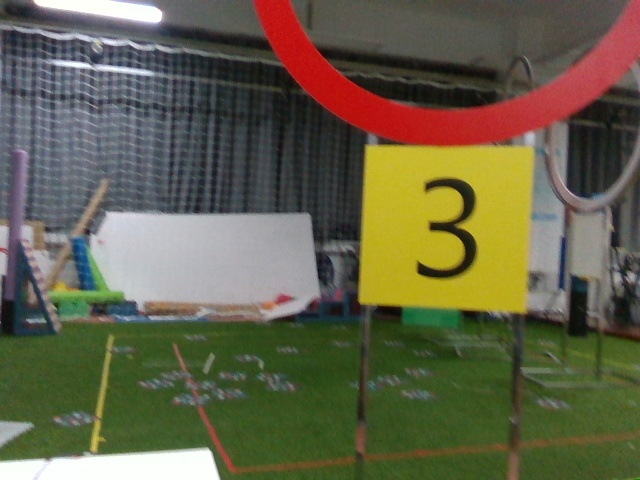target: (362, 160, 521, 302)
